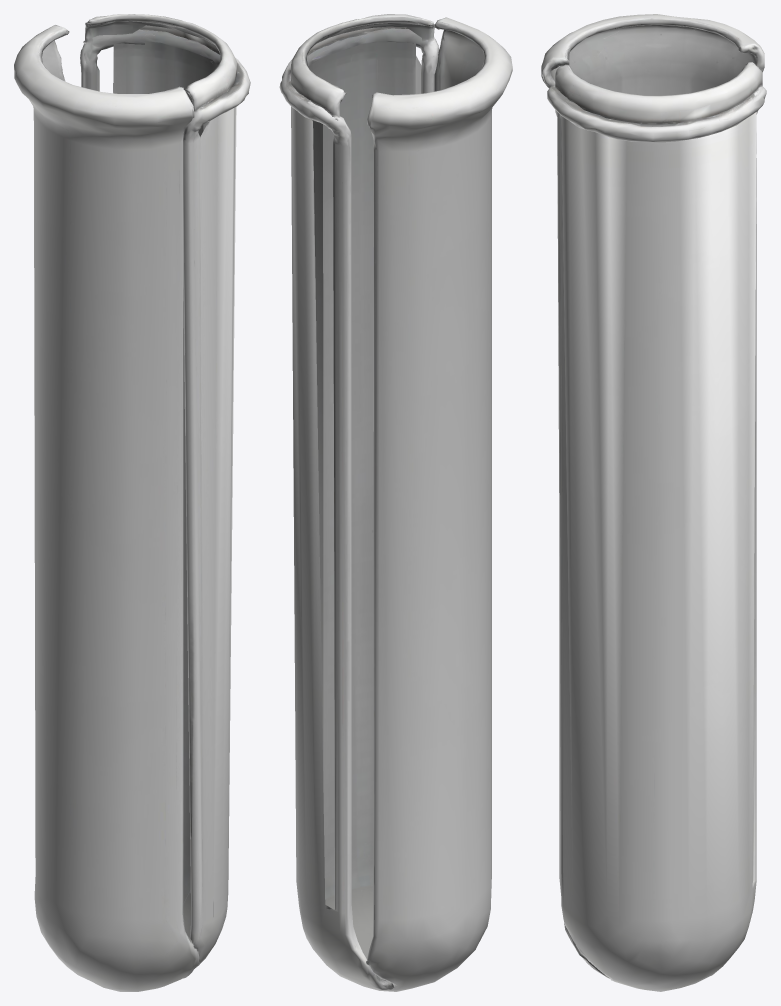
3 renders of one model, left to right at view 1: azimuth 30°, elevation 25°; view 2: azimuth 150°, elevation 25°; view 3: azimuth 270°, elevation 25°, orthographic.
Parts seen in each view (by area): view 1: tripo_node_c9966432-46d8-408f-b3c8-550904847890; view 2: tripo_node_c9966432-46d8-408f-b3c8-550904847890; view 3: tripo_node_c9966432-46d8-408f-b3c8-550904847890.
Part boxes in pixels (x1,y1,x2,y2): tripo_node_c9966432-46d8-408f-b3c8-550904847890: [14, 14, 250, 991]; tripo_node_c9966432-46d8-408f-b3c8-550904847890: [279, 14, 512, 991]; tripo_node_c9966432-46d8-408f-b3c8-550904847890: [541, 14, 766, 991].
Bounding box in the file's own units: 0.2285 × 0.998 × 0.2207.
1 material, 1 textured.
